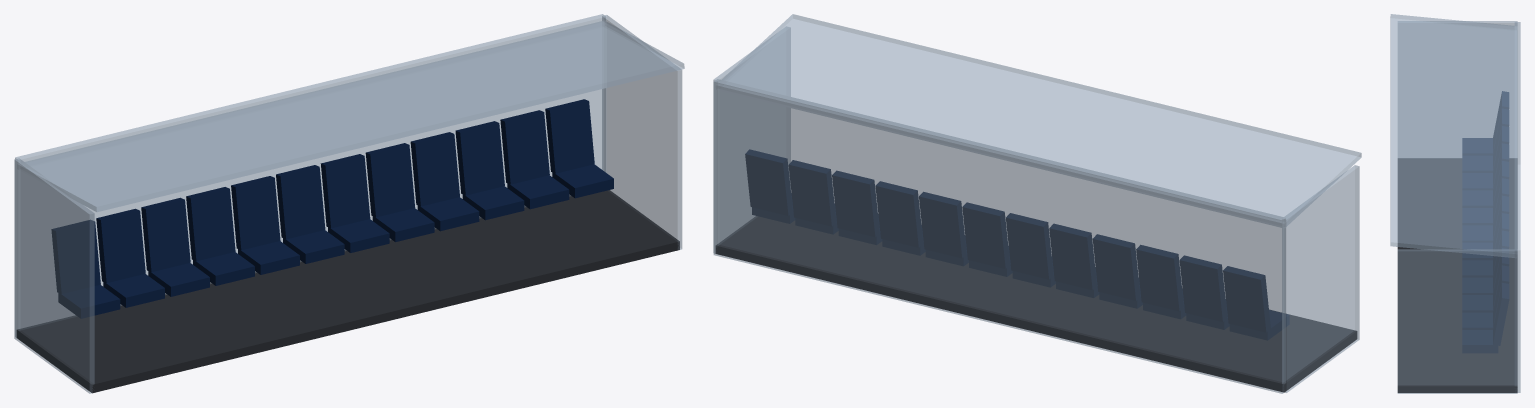
The model's file is dugout.fbx.
3 renders of one model, left to right at view 1: azimuth 30°, elevation 25°; view 2: azimuth 150°, elevation 25°; view 3: azimuth 270°, elevation 25°, orthographic. The views are drawn at different scales.
Visible parts, largest first — view 1: Back, Floor, Roof, Side, Side.001, Seat back.002, Seat back.009, Seat back.011, Seat back.001, Seat back.010, Seat back.003, Seat back.004 (+17 smaller); view 2: Back, Roof, Floor, Side, Side.001, Seat back.002, Seat back, Seat back.011, Seat back.001, Seat back.003, Seat back.005, Seat back.007 (+6 smaller); view 3: Roof, Floor, Side.001, Side, Back, Seat.011, Seat back.011, Seat, Seat.003, Seat.005, Seat.007, Seat.009 (+17 smaller).
Boxes of the visible parts, x1,y1,x2,y2 form: Back: (15,14,605,336); Floor: (16,190,679,393); Roof: (17,21,684,211); Side: (14,158,94,393); Side.001: (602,15,682,249); Seat back.002: (141,197,190,272); Seat back.009: (455,121,504,195); Seat back.011: (545,99,594,173); Seat back.001: (96,208,145,283); Seat back.010: (500,110,549,184); Seat back.003: (186,187,235,261); Seat back.004: (231,176,280,250); Back: (713,79,1285,393); Roof: (716,14,1361,227); Floor: (715,216,1357,392); Side: (1282,165,1359,392); Side.001: (713,26,790,253); Seat back.002: (1136,245,1183,311); Seat back: (1223,266,1270,332); Seat back.011: (745,149,792,215); Seat back.001: (1180,255,1226,321); Seat back.003: (1093,234,1140,300); Seat back.005: (1006,213,1053,279); Seat back.007: (919,192,966,257); Roof: (1390,14,1517,257); Floor: (1397,158,1517,392); Side.001: (1397,249,1517,393); Side: (1398,21,1517,157); Back: (1514,22,1520,392); Seat.011: (1462,330,1497,352); Seat back.011: (1493,283,1508,345); Seat: (1462,138,1492,155); Seat.003: (1462,190,1492,207); Seat.005: (1462,225,1492,242); Seat.007: (1462,260,1492,277); Seat.009: (1462,295,1492,312).
Size of the model in its own units: 7.26 by 2.22 by 1.74.
